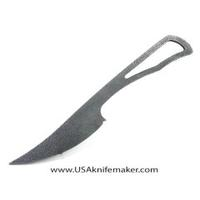knife: (7, 35, 188, 172)
